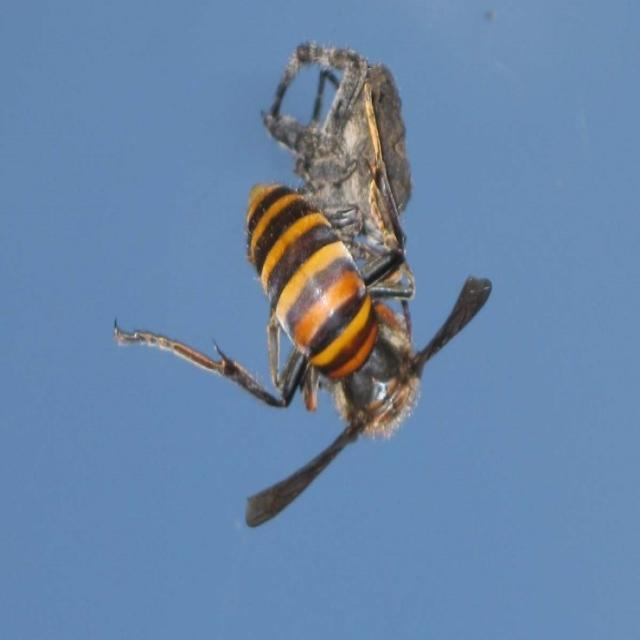Wasp: (100, 177, 496, 524)
